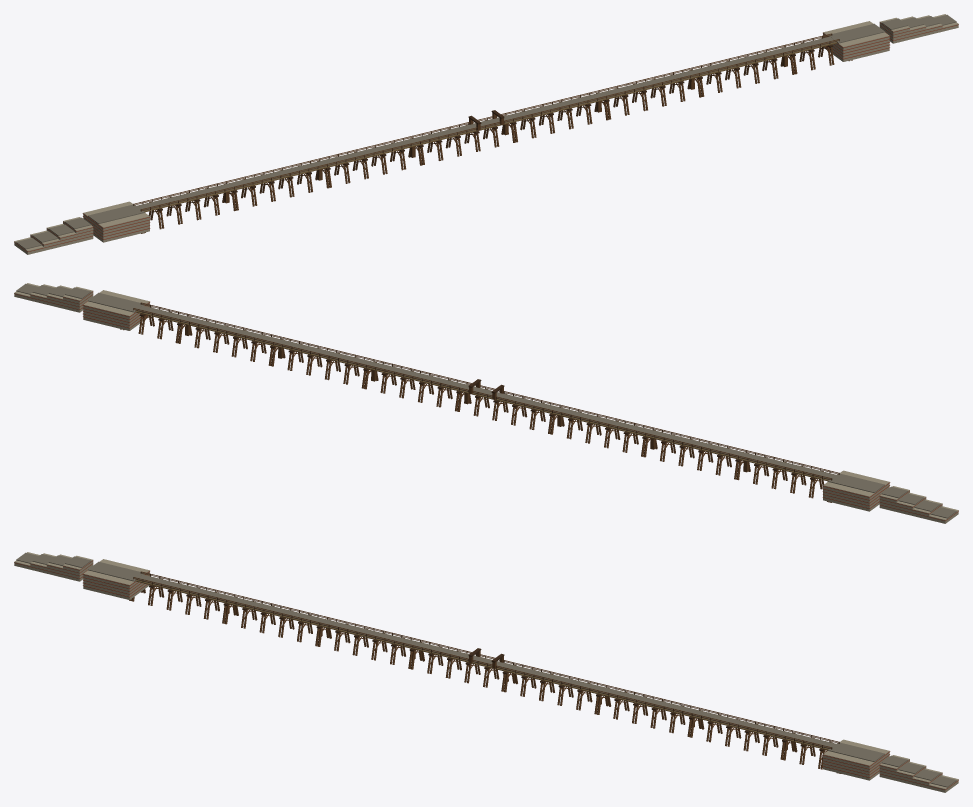
Rendered from roman_bridge_timber.glb.
3 renders of one model, top to bottom at view 1: azimuth 30°, elevation 25°; view 2: azimuth 150°, elevation 25°; view 3: azimuth 330°, elevation 25°, orthographic.
Parts seen in each view (by area): view 1: roman_bridge_timber; view 2: roman_bridge_timber; view 3: roman_bridge_timber.
Part boxes in pixels (x1,y1,x2,y2): roman_bridge_timber: [14, 14, 958, 254]; roman_bridge_timber: [14, 283, 958, 523]; roman_bridge_timber: [14, 552, 958, 792].
Size of the model in its own units: 400 by 11.24 by 15.2.
